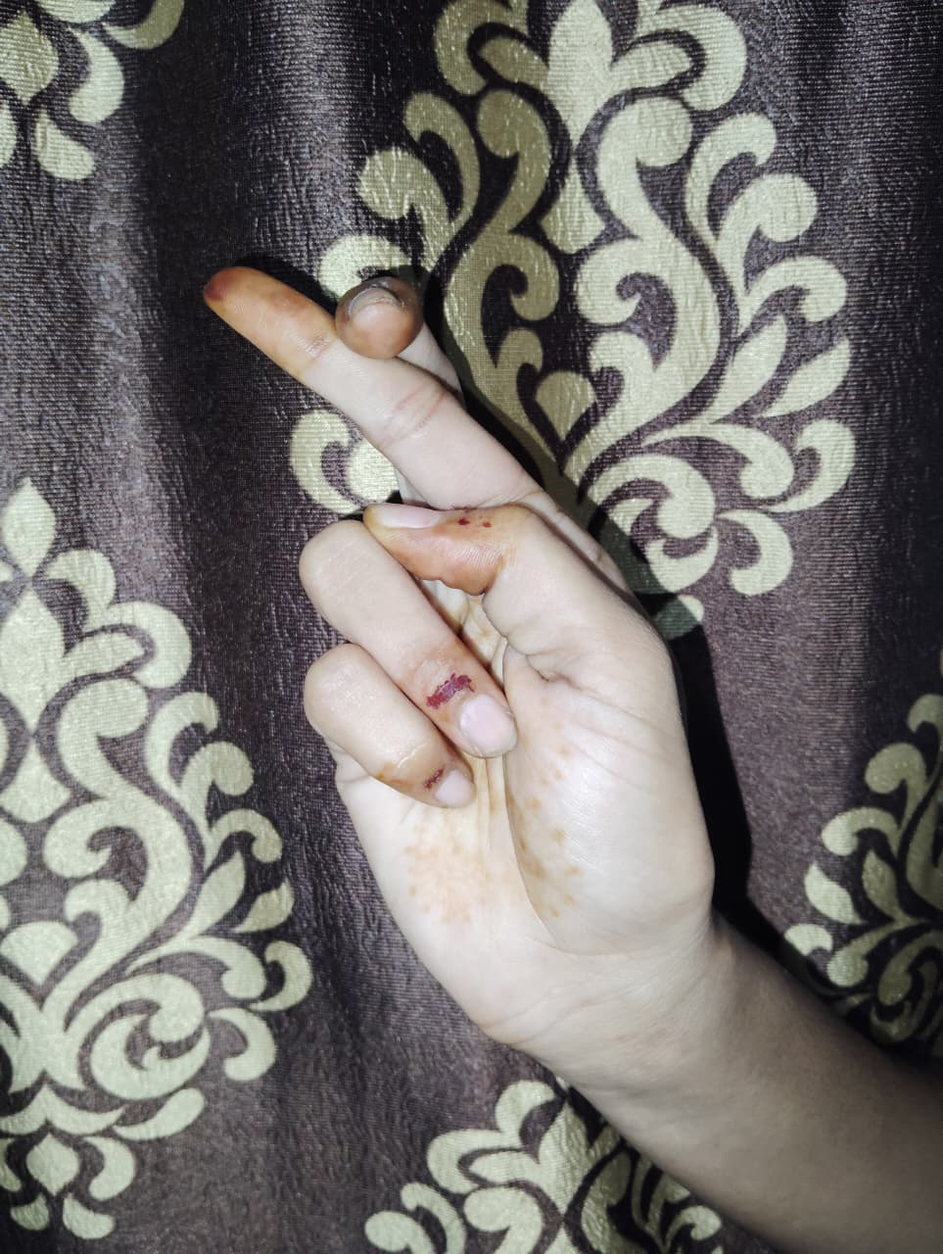R: (205, 270, 720, 945)
